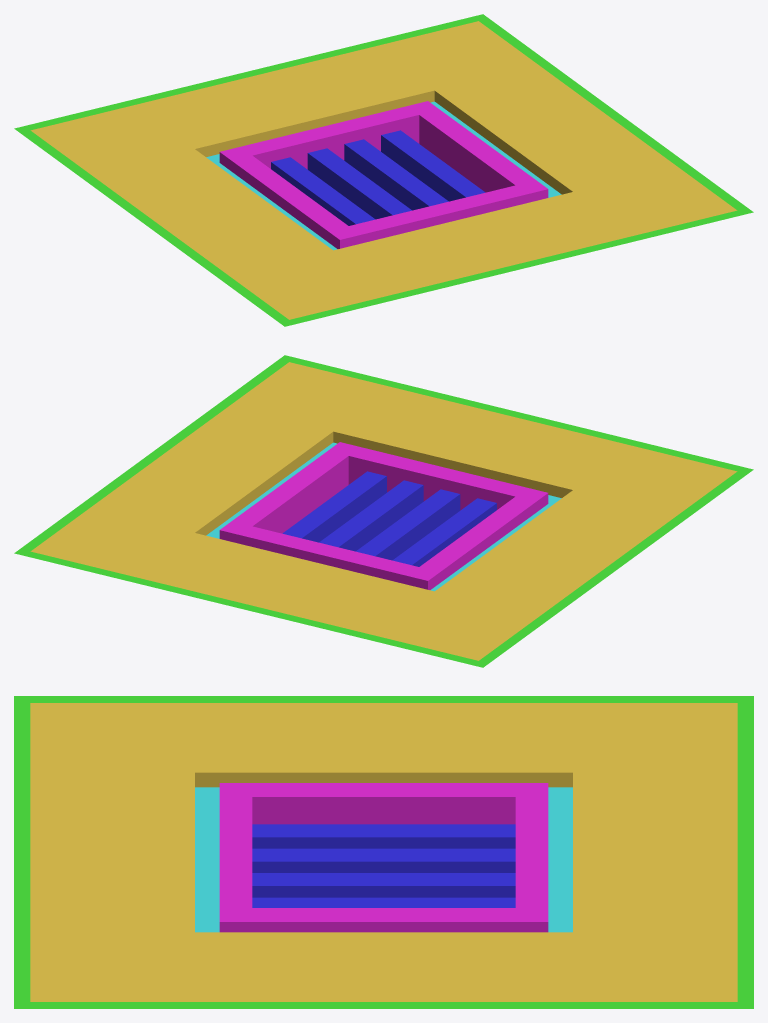
The model's file is Floor_013_G_02.fbx.
The picture shows the model from 3 angles, top to bottom: view 1: azimuth 30°, elevation 25°; view 2: azimuth 150°, elevation 25°; view 3: azimuth 270°, elevation 25°; orthographic projection. The views are drawn at different scales.
Parts seen in each view (by area): view 1: Floor_013_G_02; view 2: Floor_013_G_02; view 3: Floor_013_G_02.
Part boxes in pixels (box(x1,y1,x2,y2)): Floor_013_G_02: box(14, 14, 753, 326); Floor_013_G_02: box(14, 355, 753, 667); Floor_013_G_02: box(14, 696, 753, 1008).
Bounding box in the file's own units: 114 × 7.62 × 114.
